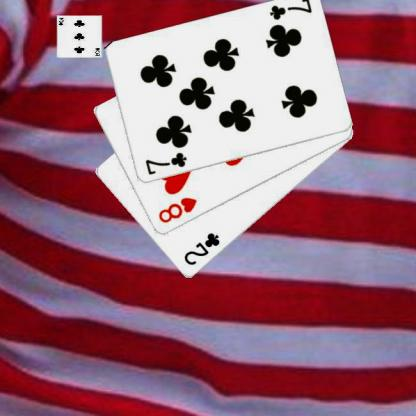2C: (181, 230, 222, 267)
7C: (142, 150, 188, 176), (267, 0, 313, 22)
8H: (156, 195, 198, 224)
